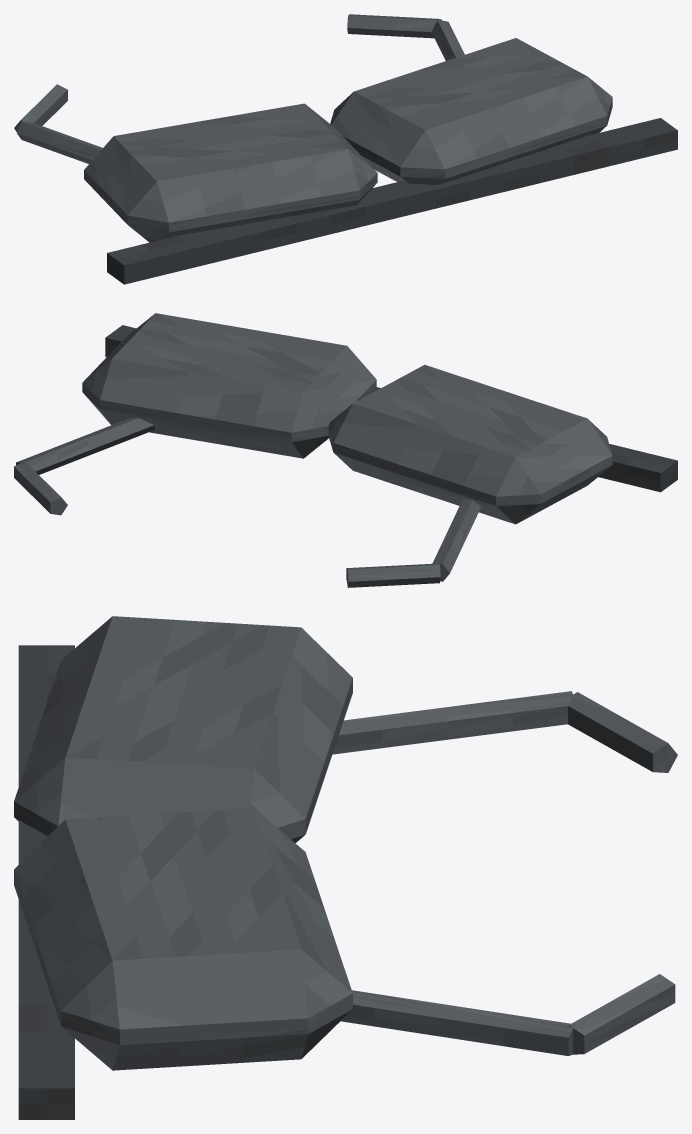
The model's file is bikini_top_leather.glb.
3 views of the same model, one above another, from view 1: azimuth 30°, elevation 25°; view 2: azimuth 150°, elevation 25°; view 3: azimuth 270°, elevation 25° (orthographic). The views are drawn at different scales.
Visible parts, largest first — view 1: block_shaped cup (×2), block_underband, block_strap 1 (×2), block_strap 0 (×2); view 2: block_shaped cup (×2), block_strap 0 (×2), block_strap 1 (×2), block_underband; view 3: block_shaped cup (×2), block_strap 0 (×2), block_underband, block_strap 1 (×2).
Boxes of the visible parts, box(x1,y1,x2,y2) form: block_shaped cup (×2): box(84, 38, 612, 242); block_underband: box(107, 118, 677, 284); block_strap 1 (×2): box(14, 14, 441, 131); block_strap 0 (×2): box(17, 19, 464, 163); block_shaped cup (×2): box(82, 313, 612, 524); block_strap 0 (×2): box(16, 418, 481, 581); block_strap 1 (×2): box(14, 461, 440, 587); block_underband: box(105, 325, 677, 492); block_shaped cup (×2): box(14, 616, 352, 1070); block_strap 0 (×2): box(332, 691, 574, 1055); block_underband: box(18, 645, 74, 1119); block_strap 1 (×2): box(568, 692, 677, 1054).
Bounding box in the file's own units: 0.2142 × 0.0248 × 0.1357.
1 material, 1 textured.
